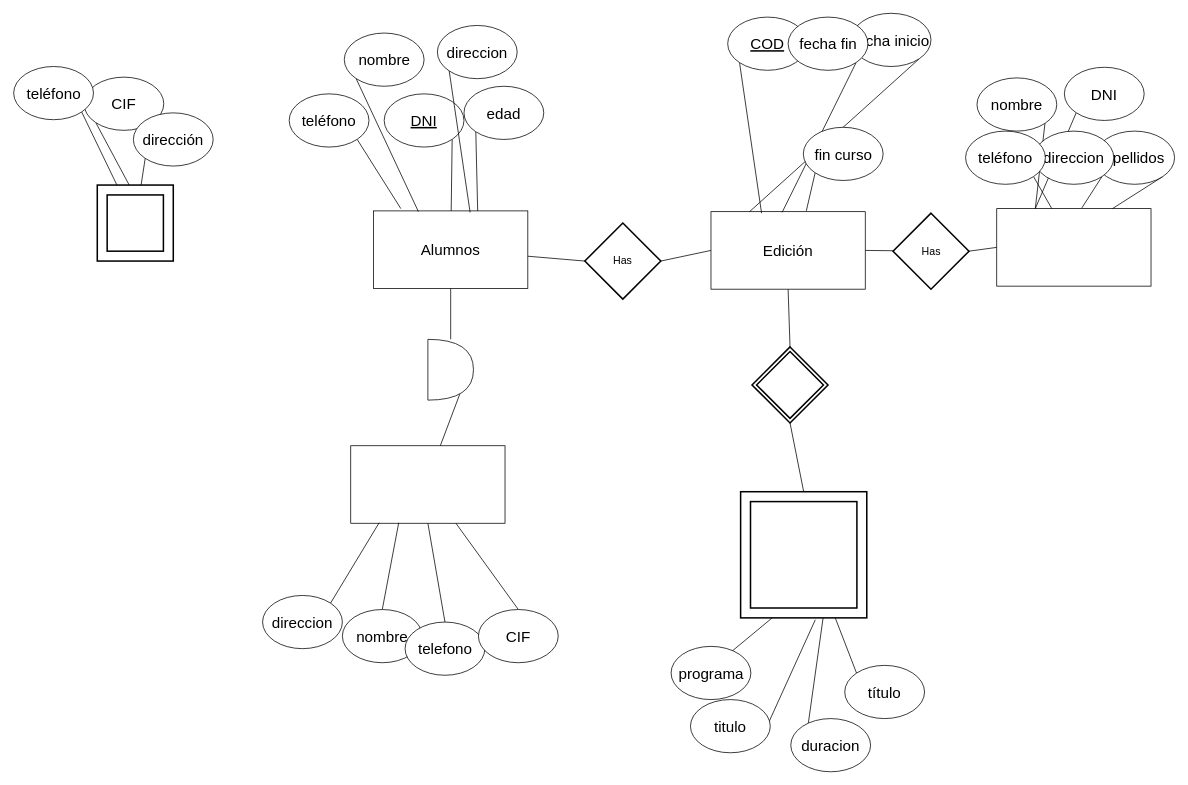
This 1188x785 diagram has some shape labels left out. The centre of each missing label's shape, as x and y in pixels:
Curso: the point at 803,554
Empresa: the point at 135,222
es un: the point at 450,369
Profesor: the point at 1073,247
puede ser: the point at 789,384
Trabajador: the point at 427,484
